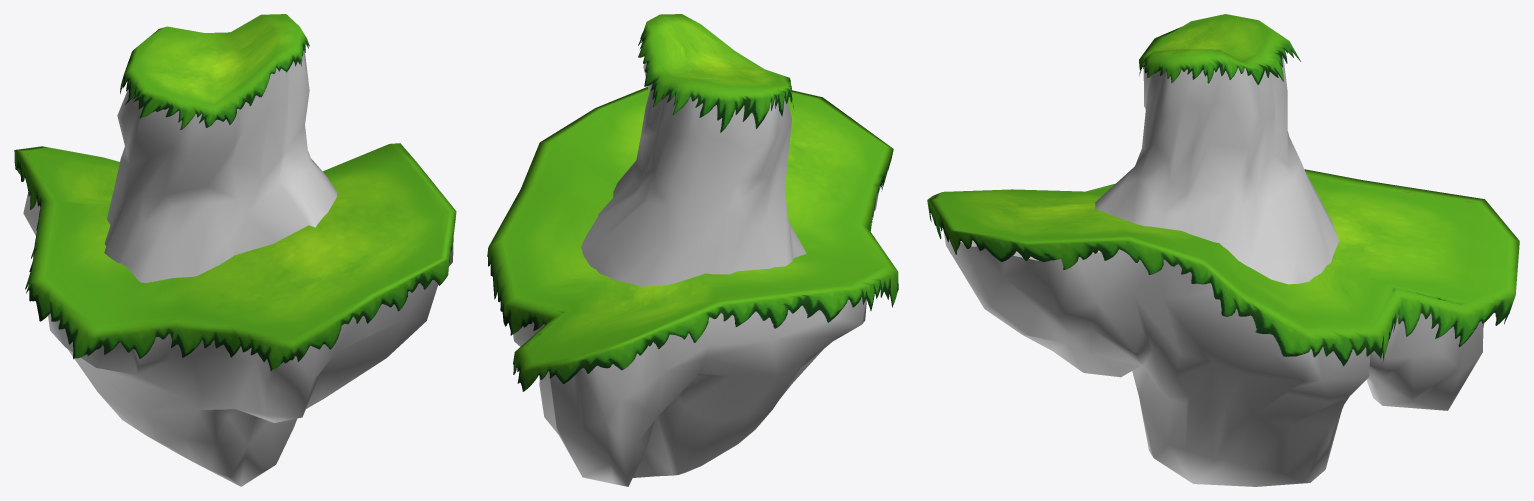
File: Island_Small_13.fbx
3 renders of one model, left to right at view 1: azimuth 30°, elevation 25°; view 2: azimuth 150°, elevation 25°; view 3: azimuth 270°, elevation 25°, orthographic. The views are drawn at different scales.
Parts seen in each view (by area): view 1: Island_Small_13; view 2: Island_Small_13; view 3: Island_Small_13.
Boxes of the visible parts, bbox=[...] form: Island_Small_13: bbox=[14, 14, 456, 486]; Island_Small_13: bbox=[487, 14, 898, 486]; Island_Small_13: bbox=[927, 14, 1519, 486].
Size of the model in its own units: 389 by 461 by 547.
